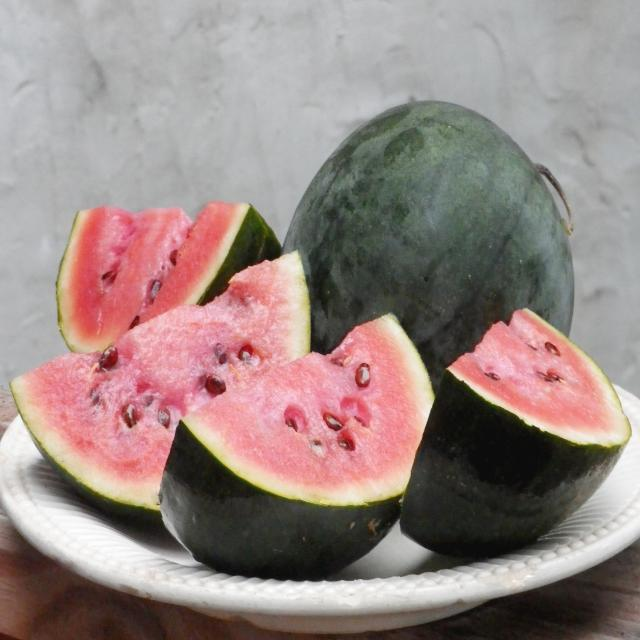Watermelon: (284, 101, 574, 389), (11, 252, 310, 513), (160, 315, 434, 579), (400, 308, 631, 554), (56, 201, 280, 353)
